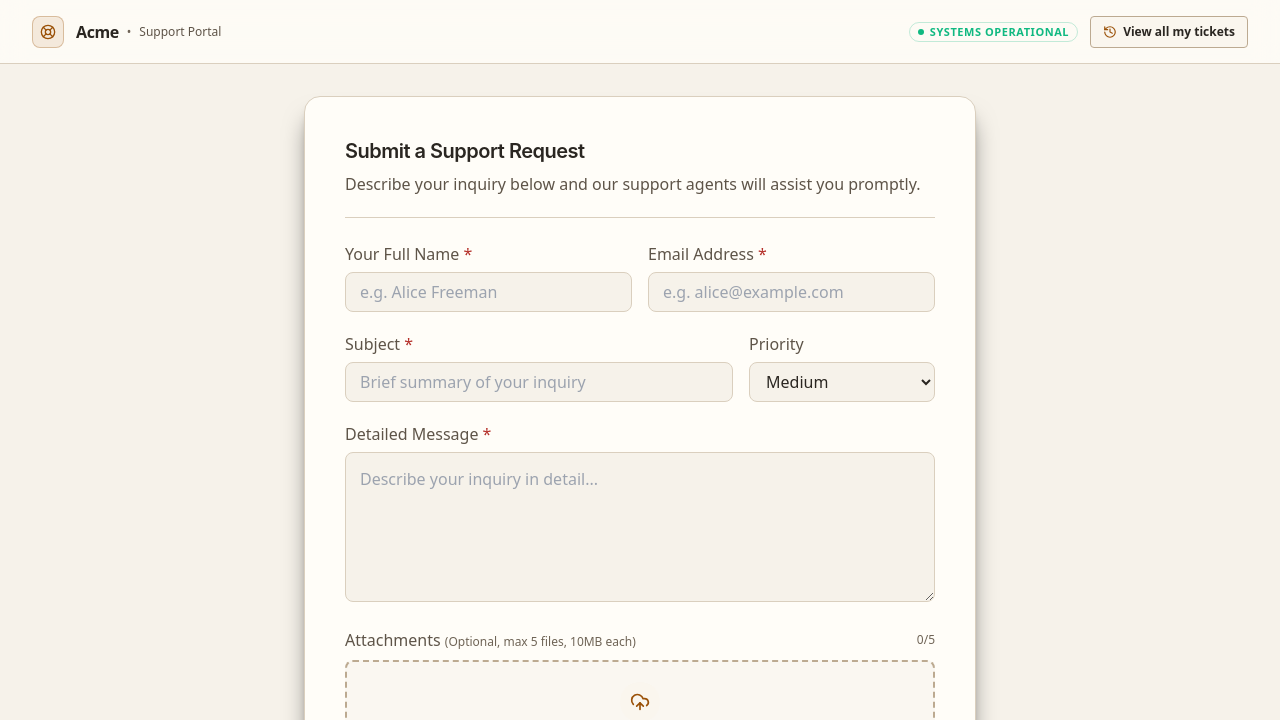
Customer Support Portal Shell & Public Ticket Intake › displays responsive error alert banner when intake submission fails
The width and height of the screenshot is (1280, 720).
Type "Alice Freeman" into the field with test id "portal-customer-name" at (488,292), box x1=345 y1=272 x2=632 y2=312
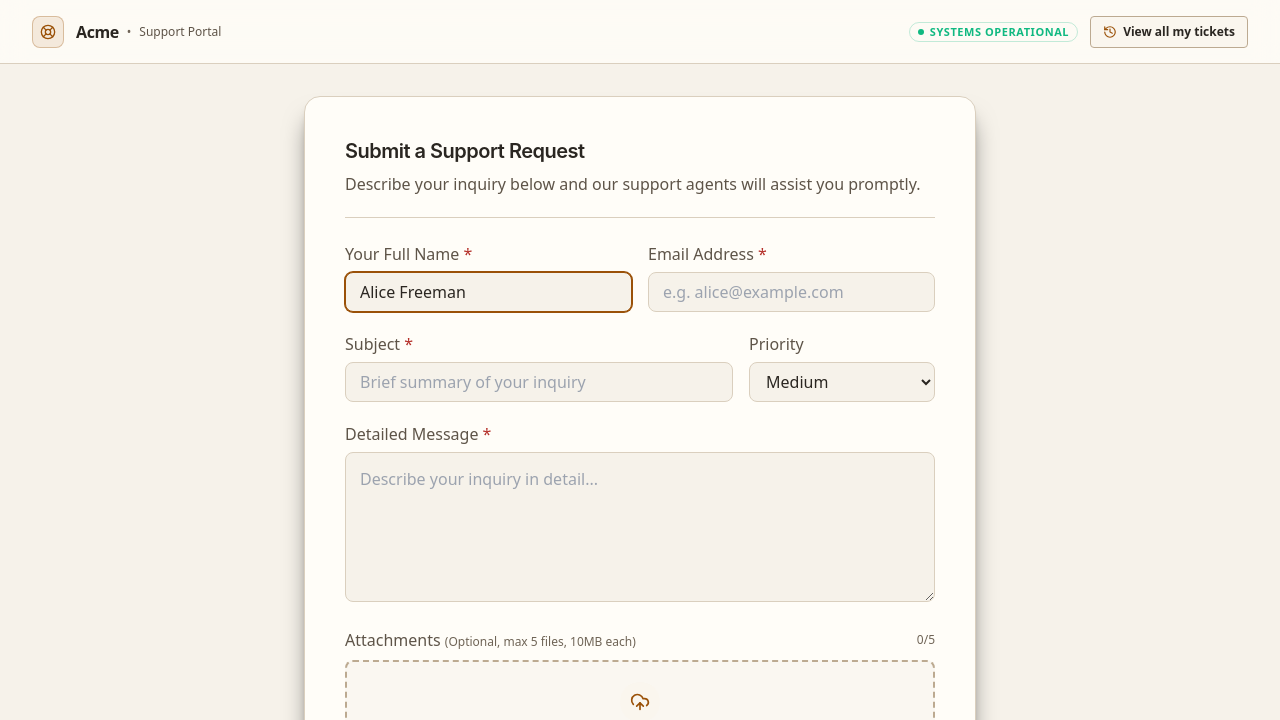
Type "alice@example.com" into the field with test id "portal-customer-email" at (792,292), box x1=648 y1=272 x2=935 y2=312
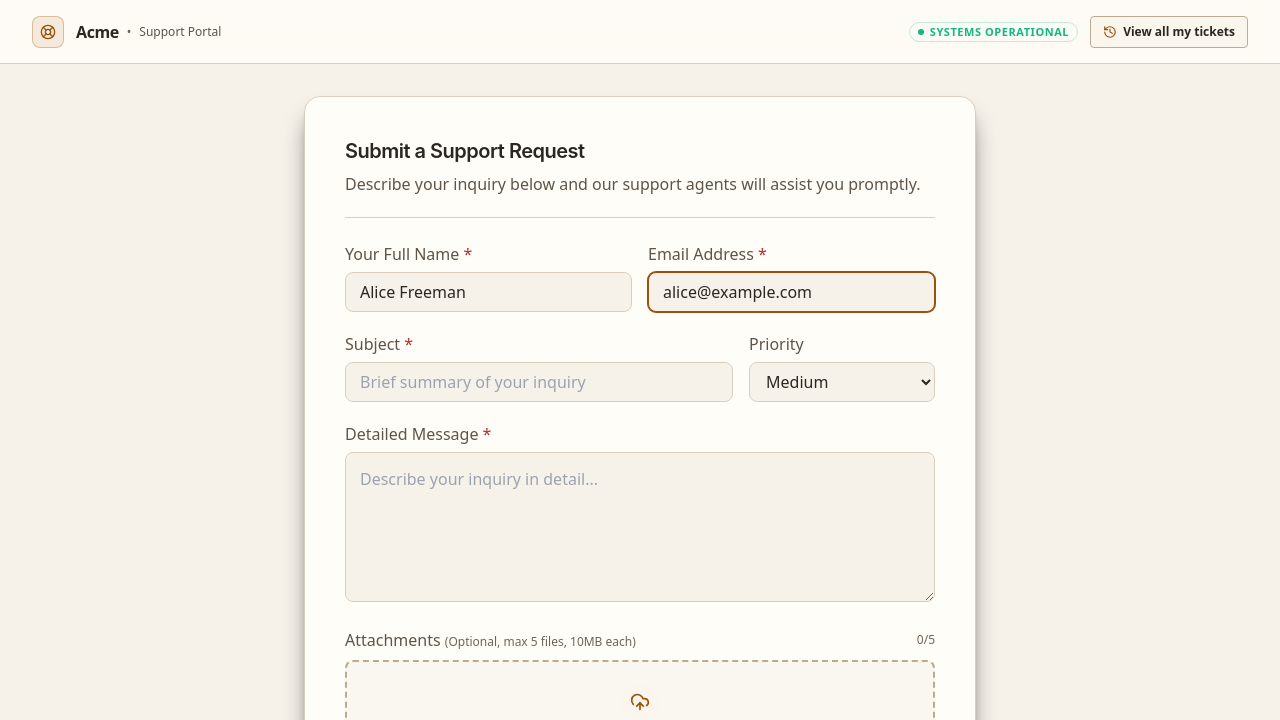
Type "Test subject" into the field with test id "portal-ticket-subject" at (539,382), box x1=345 y1=362 x2=733 y2=402
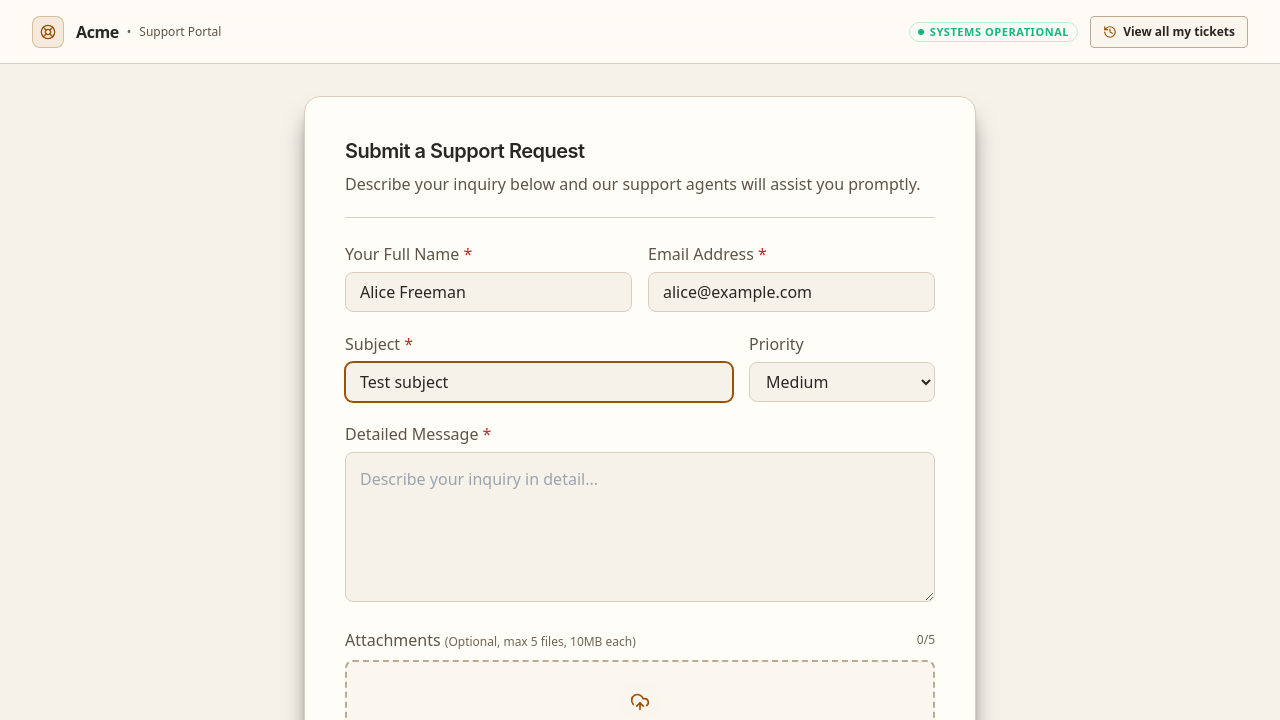
Type "Test message body" into the text box with test id "portal-ticket-message" at (640,527), box x1=345 y1=452 x2=935 y2=602
(page scrolled)
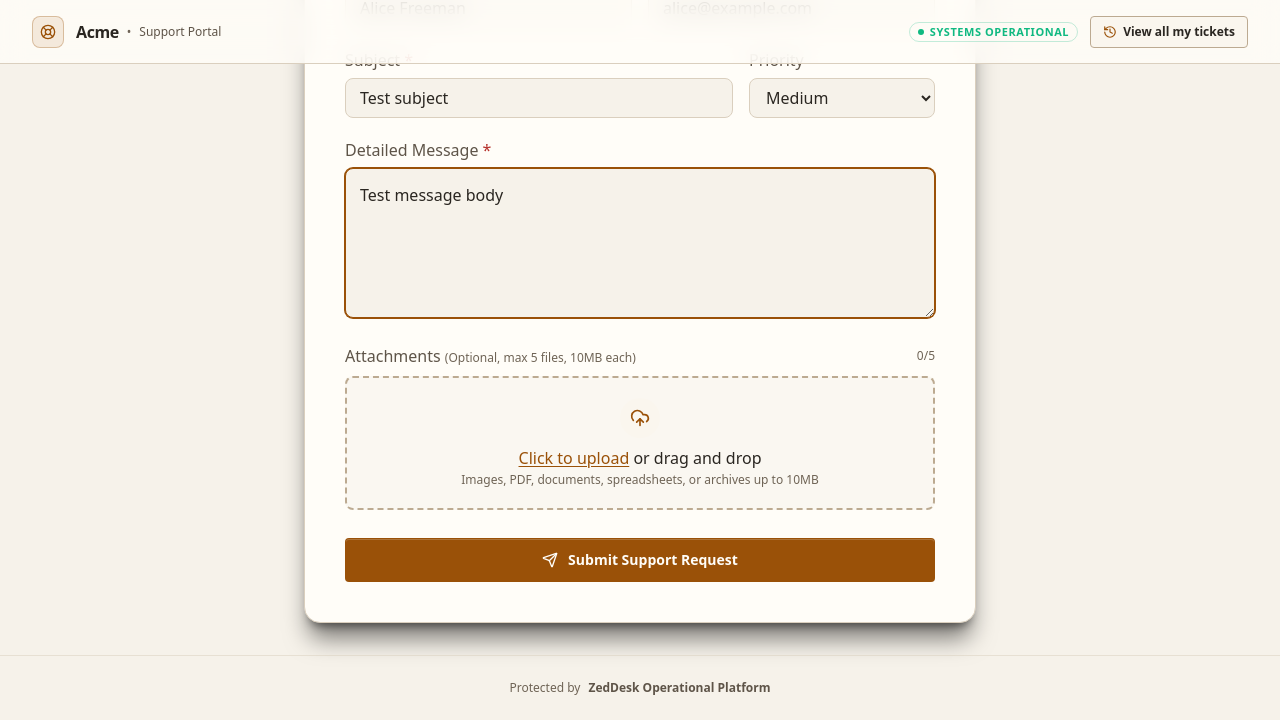
Click the button with test id "portal-submit-btn" at (640,560), box x1=345 y1=538 x2=935 y2=582
(page scrolled)
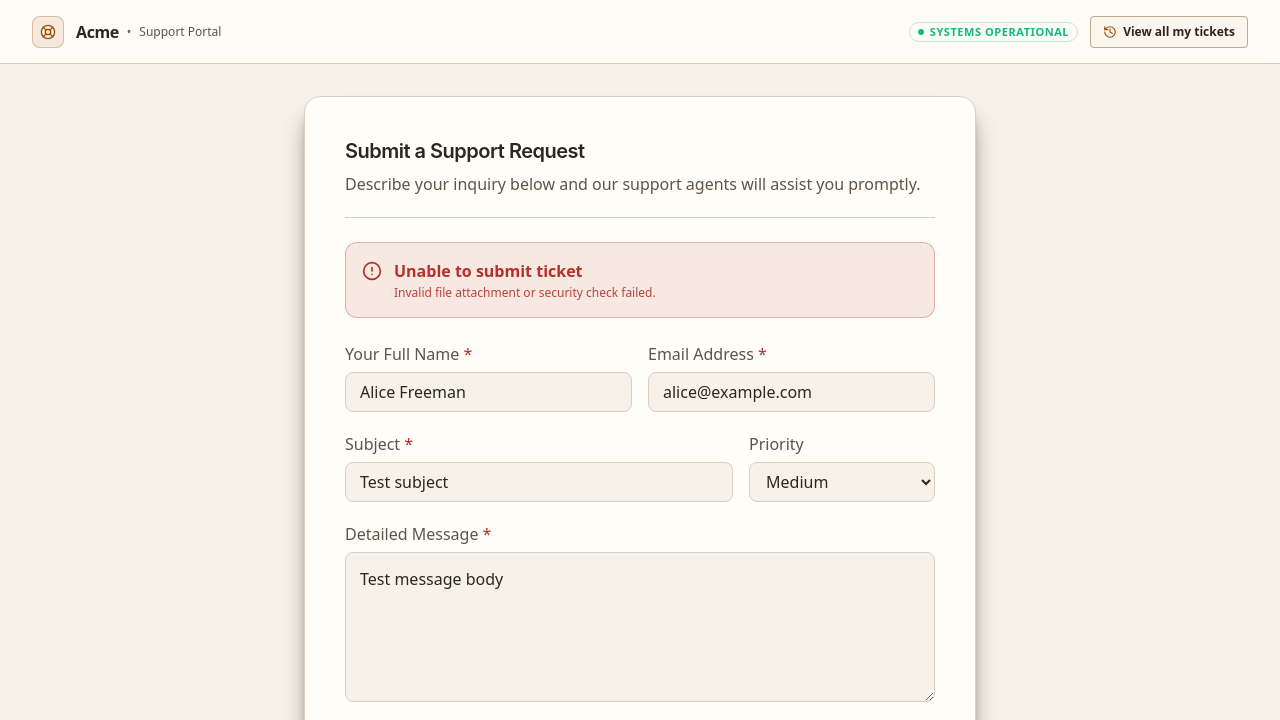
expect the element with test id "portal-error-message" is shown: met, box x1=345 y1=242 x2=935 y2=318
expect the element with test id "portal-error-message" shows "Invalid file attachment or security check failed.": met, box x1=394 y1=284 x2=656 y2=301
